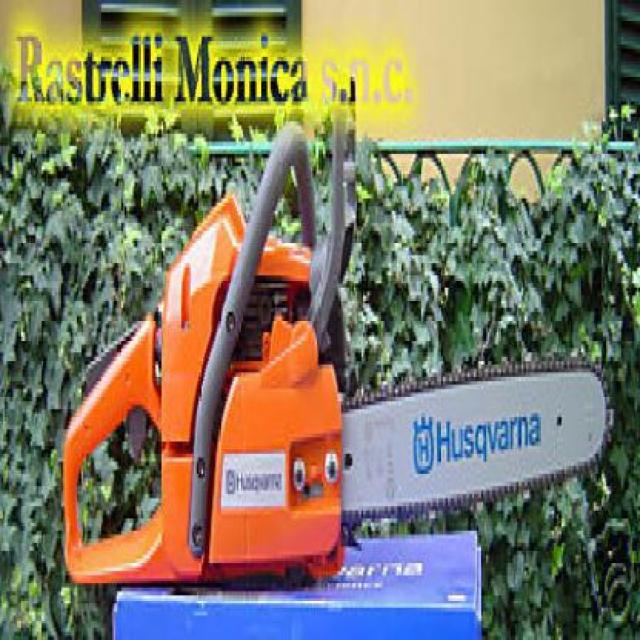Chainsaw: (61, 112, 617, 588)
